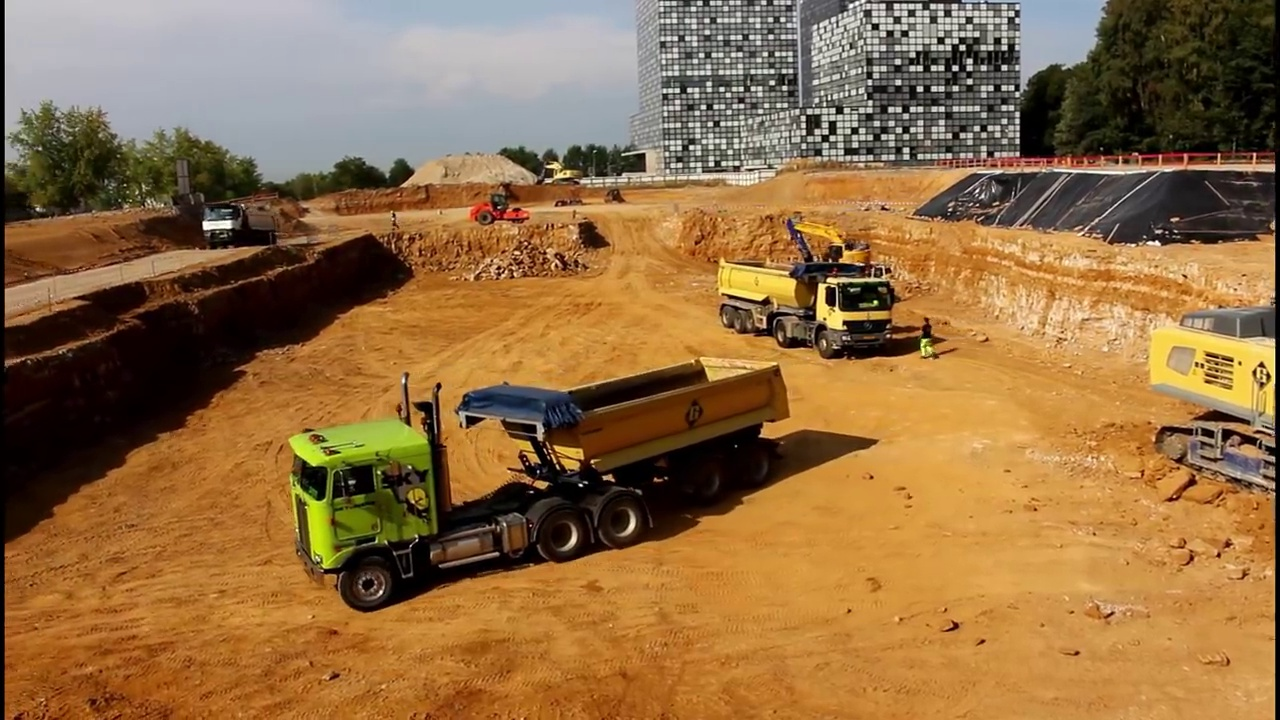compactor: (469, 192, 531, 228)
excavator: (1140, 296, 1280, 499), (775, 209, 877, 312), (536, 158, 585, 190)
truck: (282, 354, 795, 617), (717, 254, 898, 361), (198, 203, 282, 251)
worker: (915, 313, 937, 365), (386, 206, 402, 234)
